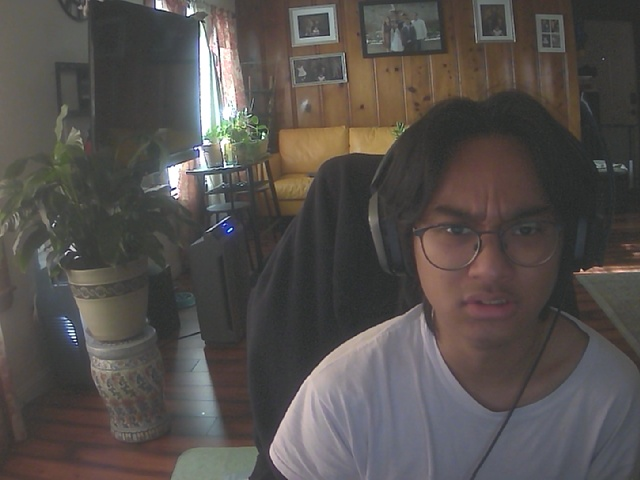anger: (408, 125, 567, 346)
